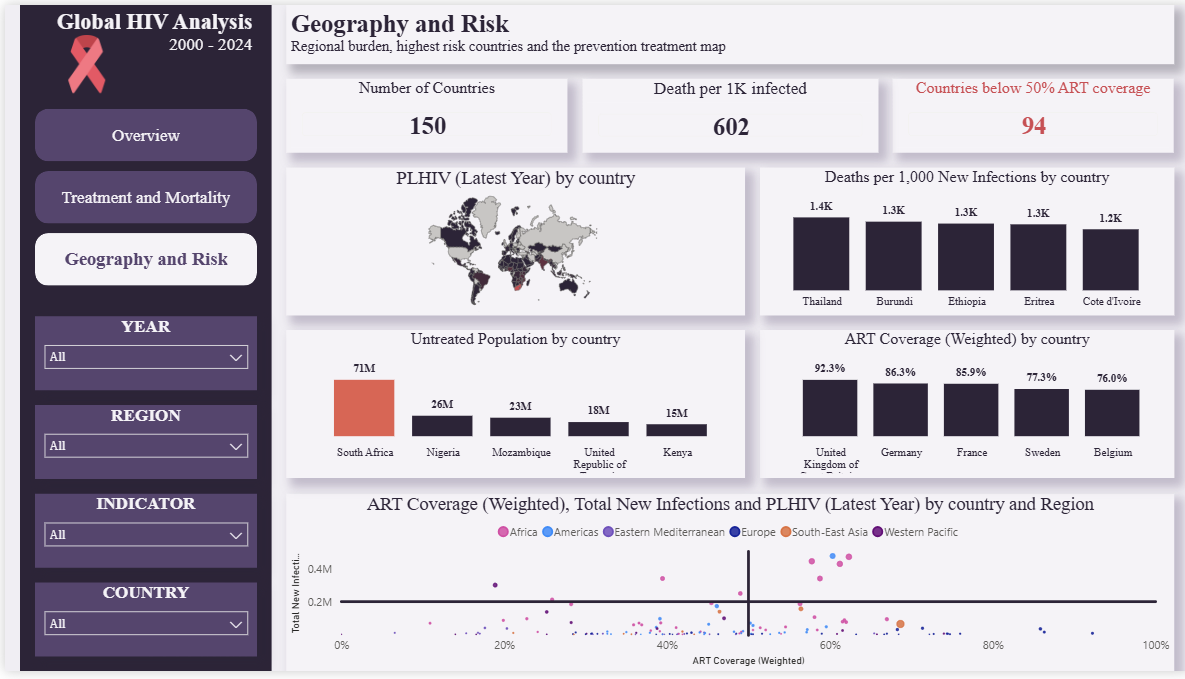

What the dashboard file says about the page in this screenshot:
{"tool":"powerbi","page":{"name":"Geography and Risk","canvas":[1280,720],"ordinal":2},"visuals":[{"type":"shape","box":[16,0,272,720],"z":0},{"type":"textbox","box":[304,0,960,64],"z":1000},{"type":"pageNavigator","box":[32,112,240,192],"z":2000},{"type":"group","id":"g1","title":"Group 1","box":[32,0,240,96],"z":3000},{"type":"cardVisual","title":"Number of Countries","fields":{"Data":["HIV_dataset.Number of countries"]},"box":[304,80,304,80],"z":4000},{"type":"cardVisual","title":"Countries below 50% ART coverage","fields":{"Data":["HIV_dataset.Countries Below 50% ART"]},"box":[960,80,304,80],"z":5000},{"type":"cardVisual","title":"Death per 1K infected","fields":{"Data":["HIV_dataset.Deaths per 1,000 New Infections"]},"box":[624,80,320,80],"z":6000},{"type":"shapeMap","fields":{"Category":["Dim_Country.country"],"Value":["HIV_dataset.PLHIV (Latest Year)"]},"box":[304,176,496,160],"z":7000},{"type":"scatterChart","fields":{"Category":["Dim_Country.country"],"Series":["Dim_Country.Region"],"Size":["HIV_dataset.PLHIV (Latest Year)"],"X":["HIV_dataset.ART Coverage (Weighted)"],"Y":["HIV_dataset.Total New Infections"]},"box":[304,528,960,192],"z":8000},{"type":"clusteredColumnChart","fields":{"Category":["Dim_Country.country"],"Y":["HIV_dataset.Deaths per 1,000 New Infections"]},"box":[816,176,448,160],"z":9000},{"type":"slicer","title":"YEAR","fields":{"Values":["Dim_Date.year"]},"box":[32,336,240,80],"z":10000},{"type":"textbox","box":[48,0,224,64],"z":11000,"group":"g1"},{"type":"slicer","title":"REGION","fields":{"Values":["Dim_Country.Region"]},"box":[32,432,240,80],"z":11000},{"type":"image","box":[32,32,112,64],"z":12000,"group":"g1"},{"type":"slicer","title":"INDICATOR","fields":{"Values":["Dim_Indicator.indicator"]},"box":[32,528,240,80],"z":12000},{"type":"clusteredColumnChart","fields":{"Category":["Dim_Country.country"],"Y":["HIV_dataset.ART Coverage (Weighted)"]},"box":[816,352,448,160],"z":13000},{"type":"clusteredColumnChart","fields":{"Category":["Dim_Country.country"],"Y":["HIV_dataset.Untreated Population"]},"box":[304,352,496,160],"z":14000},{"type":"slicer","title":"COUNTRY","fields":{"Values":["Dim_Country.country"]},"box":[32,624,240,80],"z":15000}]}

Visuals, with their boxes in screenshot pixels (x1, y1, x2, y2), scaled from the page's 1280x720 canvas onto the 1185x679 screenshot:
shape: 15/0/267/678
textbox: 281/0/1170/60
pageNavigator: 30/106/252/287
"Group 1" group: 30/0/252/91
"Number of Countries" cardVisual: 281/75/563/151
"Countries below 50% ART coverage" cardVisual: 889/75/1170/151
"Death per 1K infected" cardVisual: 578/75/874/151
shapeMap - Dim_Country.country x HIV_dataset.PLHIV (Latest Year): 281/166/741/317
scatterChart - Dim_Country.country x Dim_Country.Region: 281/498/1170/678
clusteredColumnChart - Dim_Country.country x HIV_dataset.Deaths per 1,000 New Infections: 755/166/1170/317
"YEAR" slicer: 30/317/252/392
textbox: 44/0/252/60
"REGION" slicer: 30/407/252/483
image: 30/30/133/91
"INDICATOR" slicer: 30/498/252/573
clusteredColumnChart - Dim_Country.country x HIV_dataset.ART Coverage (Weighted): 755/332/1170/483
clusteredColumnChart - Dim_Country.country x HIV_dataset.Untreated Population: 281/332/741/483
"COUNTRY" slicer: 30/588/252/664
